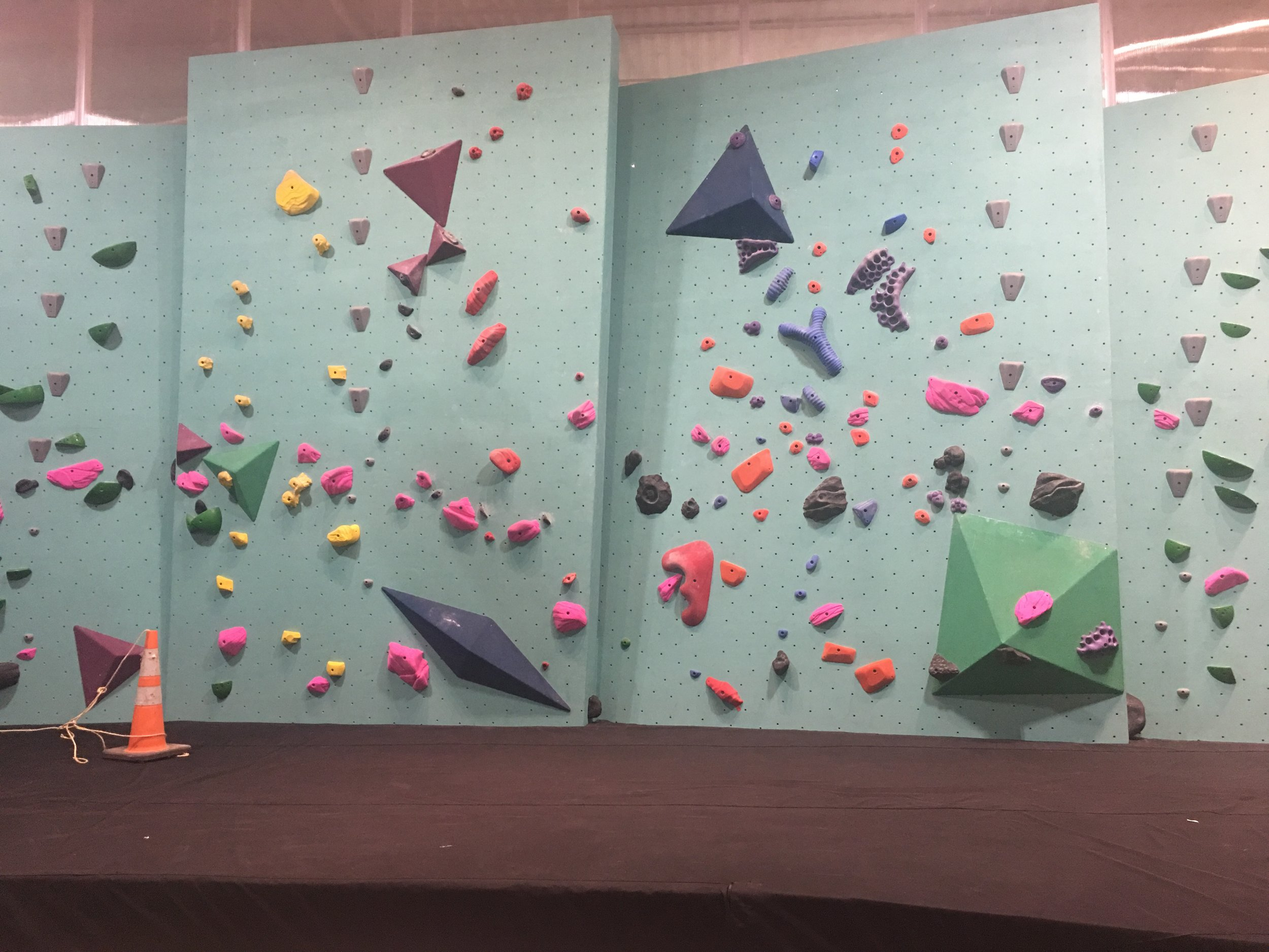hold: (778, 306, 843, 376), (661, 541, 713, 625), (870, 263, 914, 331), (1029, 472, 1084, 517), (925, 377, 989, 415), (846, 248, 894, 294), (387, 642, 429, 692), (803, 476, 847, 523), (276, 170, 320, 215), (731, 449, 773, 493), (466, 322, 506, 365), (47, 459, 103, 489), (1202, 450, 1253, 481), (465, 270, 498, 315), (1076, 621, 1118, 656), (736, 238, 778, 273), (709, 366, 753, 399), (1014, 590, 1053, 627), (636, 474, 672, 514), (855, 659, 895, 694), (1205, 567, 1249, 596), (706, 676, 743, 710), (443, 498, 478, 532), (92, 241, 136, 268), (552, 601, 587, 634), (1215, 485, 1256, 513), (765, 267, 795, 303), (84, 482, 122, 507), (189, 507, 222, 534), (0, 384, 44, 404), (1126, 693, 1145, 739), (489, 448, 521, 475), (567, 400, 596, 429), (217, 627, 246, 656), (929, 653, 959, 681), (1011, 400, 1044, 425), (1000, 62, 1025, 94), (176, 471, 208, 496), (508, 519, 541, 543), (933, 446, 964, 471), (327, 524, 359, 548), (999, 360, 1024, 390), (1181, 333, 1206, 363), (1207, 193, 1232, 223), (1167, 468, 1192, 498), (960, 313, 994, 335), (821, 642, 855, 664), (999, 121, 1023, 152), (1185, 398, 1212, 425), (1184, 256, 1210, 284), (1192, 123, 1217, 152), (852, 499, 878, 526), (88, 322, 116, 347), (1000, 272, 1024, 301), (720, 561, 747, 586), (986, 200, 1010, 228), (40, 292, 64, 318), (81, 162, 105, 188), (802, 385, 825, 412), (1221, 273, 1259, 289), (1164, 539, 1190, 562), (352, 67, 374, 94), (55, 432, 86, 451), (28, 438, 51, 463), (47, 371, 70, 396), (44, 225, 66, 251), (947, 471, 969, 497), (348, 386, 369, 413), (351, 147, 372, 174), (1153, 409, 1180, 430), (349, 217, 369, 245), (0, 662, 20, 690), (1207, 665, 1236, 684), (349, 305, 369, 332), (1211, 605, 1234, 628), (998, 646, 1031, 662), (772, 650, 790, 679), (289, 473, 312, 495), (623, 450, 641, 477), (884, 213, 907, 234), (1041, 375, 1066, 393), (211, 680, 232, 701), (1138, 383, 1160, 403), (1221, 322, 1250, 337), (587, 695, 602, 723), (307, 676, 329, 695), (312, 234, 331, 256), (7, 568, 31, 585), (15, 479, 39, 496), (926, 490, 945, 511), (691, 425, 710, 445), (325, 660, 345, 679), (681, 498, 699, 519), (847, 408, 868, 426), (808, 150, 824, 173), (281, 630, 301, 648), (216, 575, 233, 596), (281, 490, 300, 508), (395, 493, 415, 510), (117, 469, 134, 489), (781, 396, 801, 413), (711, 437, 729, 455), (229, 531, 248, 548), (415, 470, 432, 489), (197, 356, 214, 375), (729, 129, 746, 148), (327, 365, 347, 381), (23, 174, 39, 194), (571, 207, 590, 223), (851, 429, 870, 445), (516, 82, 532, 100), (231, 280, 249, 296), (237, 315, 253, 333), (743, 320, 761, 336), (891, 123, 908, 139), (950, 497, 967, 513), (217, 470, 232, 488), (806, 554, 820, 573), (863, 390, 879, 406), (235, 395, 251, 410), (915, 509, 930, 525), (17, 648, 37, 660), (767, 193, 781, 210), (890, 147, 904, 164), (901, 474, 918, 488), (562, 572, 577, 587), (1087, 403, 1103, 417), (789, 440, 805, 454), (806, 432, 823, 445), (923, 227, 936, 244), (407, 324, 421, 339), (489, 126, 504, 140), (712, 495, 727, 509), (377, 426, 390, 442), (934, 335, 948, 349), (701, 337, 715, 351), (477, 503, 489, 519), (398, 304, 414, 316), (397, 273, 409, 289), (420, 148, 437, 159), (1154, 619, 1167, 633), (750, 395, 764, 408), (446, 231, 460, 244), (469, 146, 482, 159), (779, 421, 792, 434), (540, 512, 550, 527), (483, 531, 495, 543), (379, 359, 392, 370), (1179, 571, 1192, 582), (1177, 687, 1190, 698), (451, 86, 464, 97), (998, 482, 1009, 494), (1000, 446, 1013, 456), (795, 589, 806, 600), (431, 489, 443, 499), (620, 638, 630, 649), (363, 578, 374, 588), (24, 633, 34, 643), (777, 629, 787, 639), (28, 527, 39, 536), (690, 670, 701, 679), (364, 457, 374, 466), (574, 372, 584, 381), (756, 437, 766, 444), (348, 495, 355, 503), (542, 662, 548, 670)
volume: (933, 510, 1124, 694), (382, 587, 569, 711), (664, 125, 796, 243), (382, 138, 463, 230), (73, 625, 157, 713), (201, 442, 279, 524), (425, 222, 468, 265), (388, 254, 428, 297), (176, 423, 211, 465)
